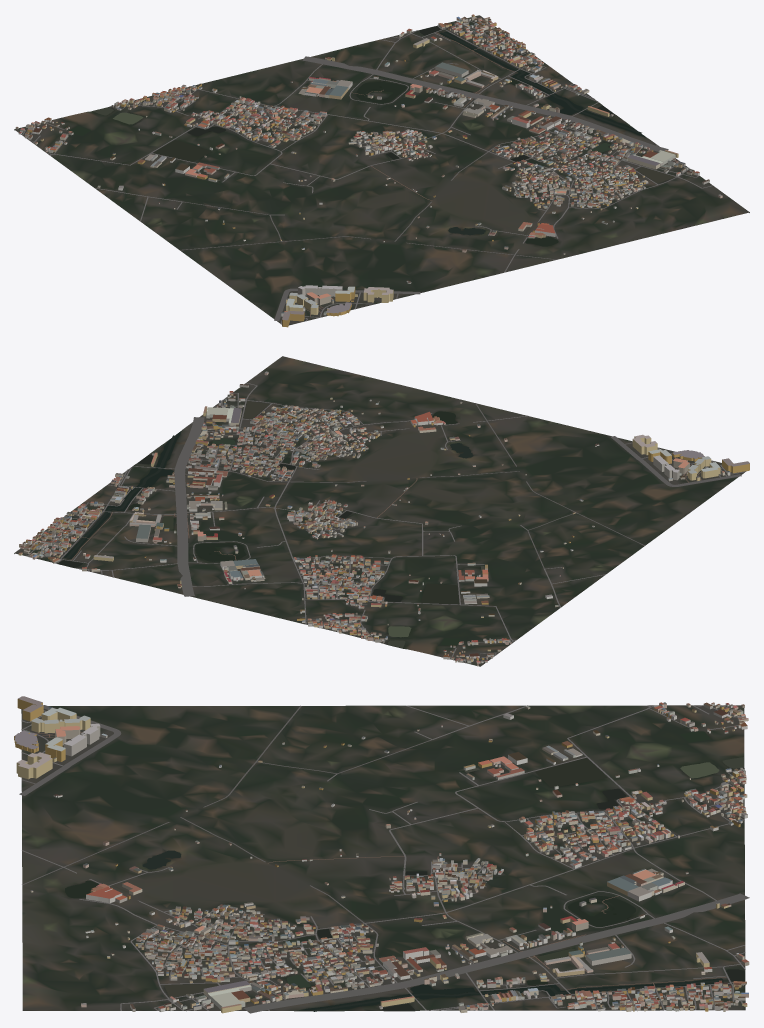
3 views of the same model, one above another, from view 1: azimuth 30°, elevation 25°; view 2: azimuth 150°, elevation 25°; view 3: azimuth 270°, elevation 25° (orthographic). The views are drawn at different scales.
Visible parts, largest first — view 1: ground, buildings, roads, water; view 2: ground, buildings, roads, water; view 3: ground, buildings, roads, water.
Boxes of the visible parts, x1,y1,x2,y2 form: ground: [14, 15, 749, 325]; buildings: [15, 14, 722, 327]; roads: [22, 19, 712, 324]; water: [69, 26, 674, 246]; ground: [14, 356, 746, 666]; buildings: [18, 371, 749, 666]; roads: [26, 383, 745, 662]; water: [57, 401, 484, 648]; ground: [21, 705, 745, 1011]; buildings: [14, 696, 749, 1013]; roads: [19, 705, 749, 1013]; water: [65, 731, 744, 1011].
Size of the model in its own units: 1418 by 28.11 by 1427.
